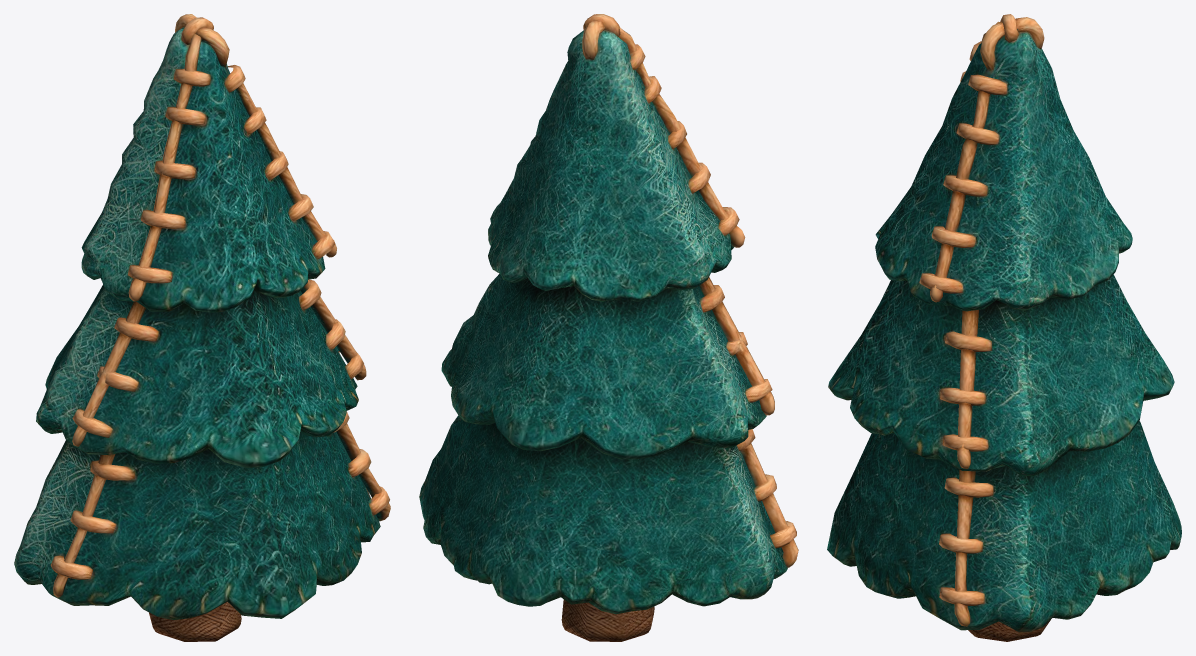
Rendered from tree.glb.
3 renders of one model, left to right at view 1: azimuth 30°, elevation 25°; view 2: azimuth 150°, elevation 25°; view 3: azimuth 270°, elevation 25°, orthographic.
Visible parts, largest first — view 1: tripo_8665f84b_6b6b_4452_ad7d_c4dacecc8e93; view 2: tripo_8665f84b_6b6b_4452_ad7d_c4dacecc8e93; view 3: tripo_8665f84b_6b6b_4452_ad7d_c4dacecc8e93.
Boxes of the visible parts, x1,y1,x2,y2 form: tripo_8665f84b_6b6b_4452_ad7d_c4dacecc8e93: (14, 14, 390, 641); tripo_8665f84b_6b6b_4452_ad7d_c4dacecc8e93: (419, 14, 798, 641); tripo_8665f84b_6b6b_4452_ad7d_c4dacecc8e93: (827, 14, 1181, 641).
Bounding box in the file's own units: 0.5942 × 0.9995 × 0.522.
1 material, 1 textured.
